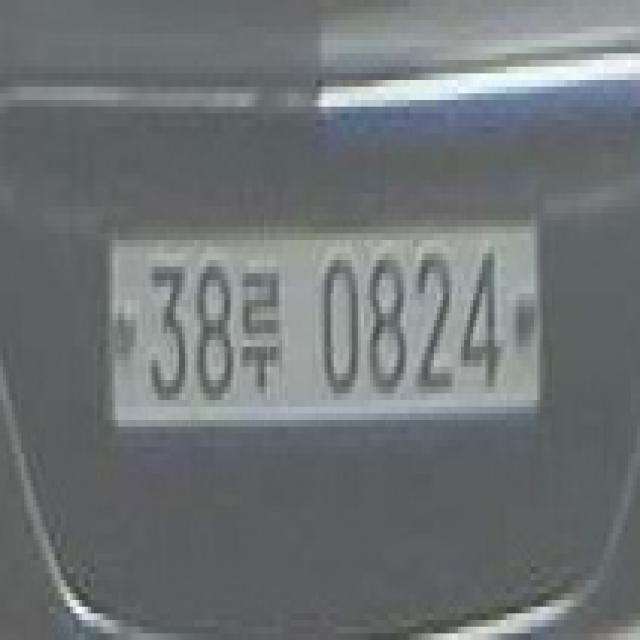0: (318, 253, 361, 400)
2: (412, 240, 455, 400)
3: (149, 260, 188, 400)
4: (461, 247, 504, 393)
8: (364, 247, 406, 393), (194, 266, 234, 406)
license_plate: (103, 206, 543, 446)
lu: (237, 260, 282, 393)
